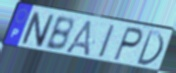A: (63, 19, 94, 58)
B: (43, 16, 74, 53)
D: (135, 30, 165, 68)
I: (97, 23, 117, 60)
N: (20, 10, 56, 49)
P: (112, 25, 145, 63)
